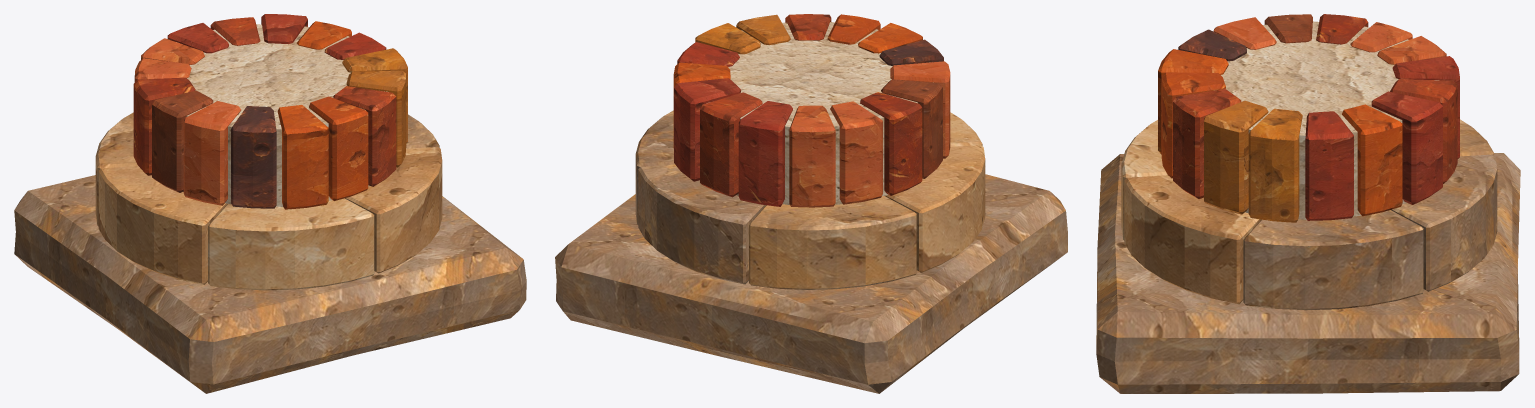
The model's file is column_base__clay_brick.glb.
The picture shows the model from 3 angles, left to right: view 1: azimuth 30°, elevation 25°; view 2: azimuth 150°, elevation 25°; view 3: azimuth 270°, elevation 25°; orthographic projection. The views are drawn at different scales.
Parts seen in each view (by area): view 1: model; view 2: model; view 3: model.
Boxes of the visible parts, x1,y1,x2,y2 form: model: (14,14,526,393); model: (555,14,1067,393); model: (1096,14,1520,393).
Size of the model in its own units: 0.7738 by 0.4849 by 0.779.
Materials: 13 (13 with a texture image).
